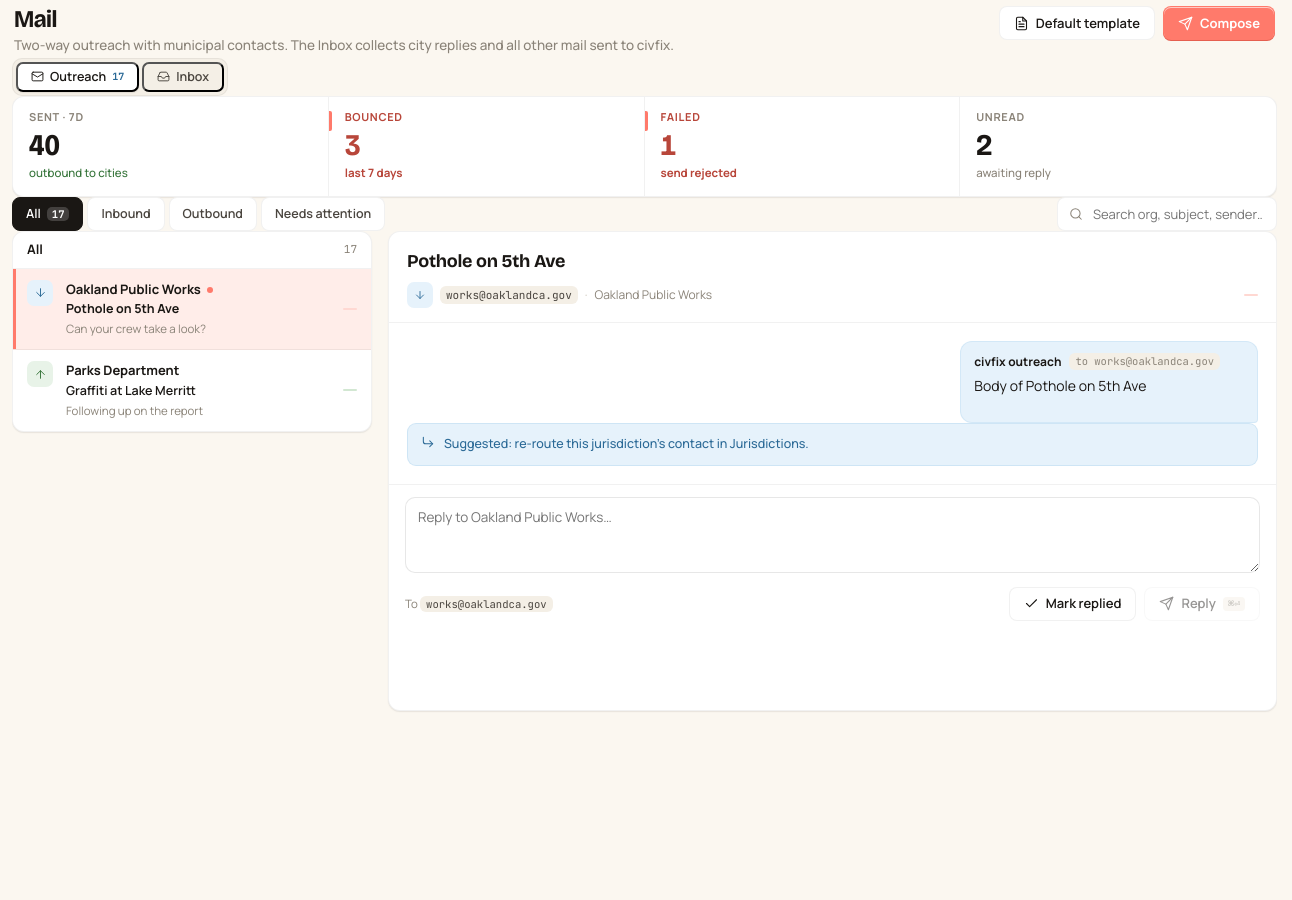
Test: MailPage outreach › clears a thread that drops out of the list after a refetch, without opening another
This screenshot has width=1292, height=900.
expect the text "Body of Pothole on 5th Ave" is shown: met, box [974,376,1146,395]
Click the button "Mark replied". click: click(1073, 604)
box: [1009,587,1136,621]
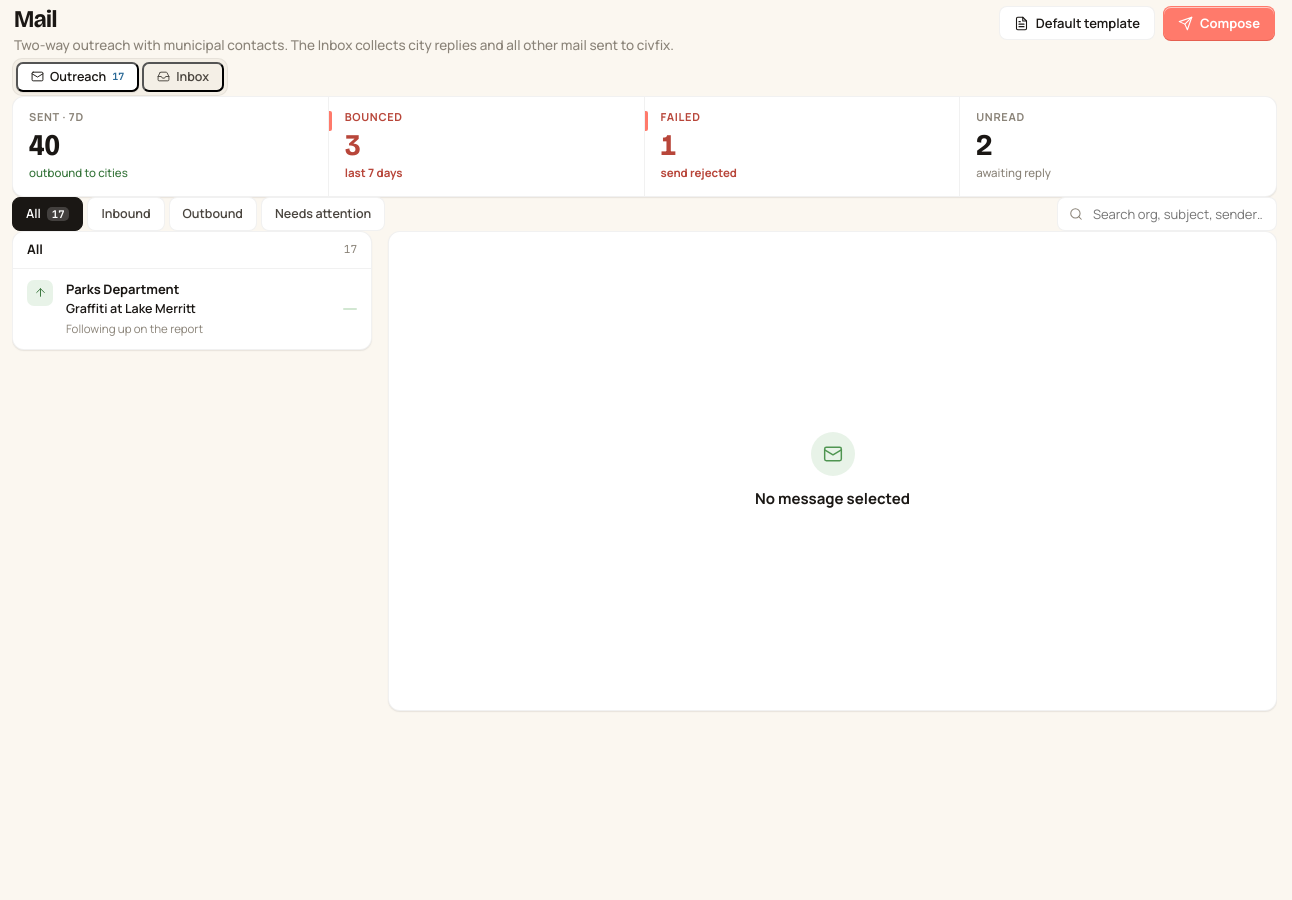
expect the button "Pothole on 5th Ave" is gone: met
expect the text "No message selected" is shown: met, box [755,488,910,510]
